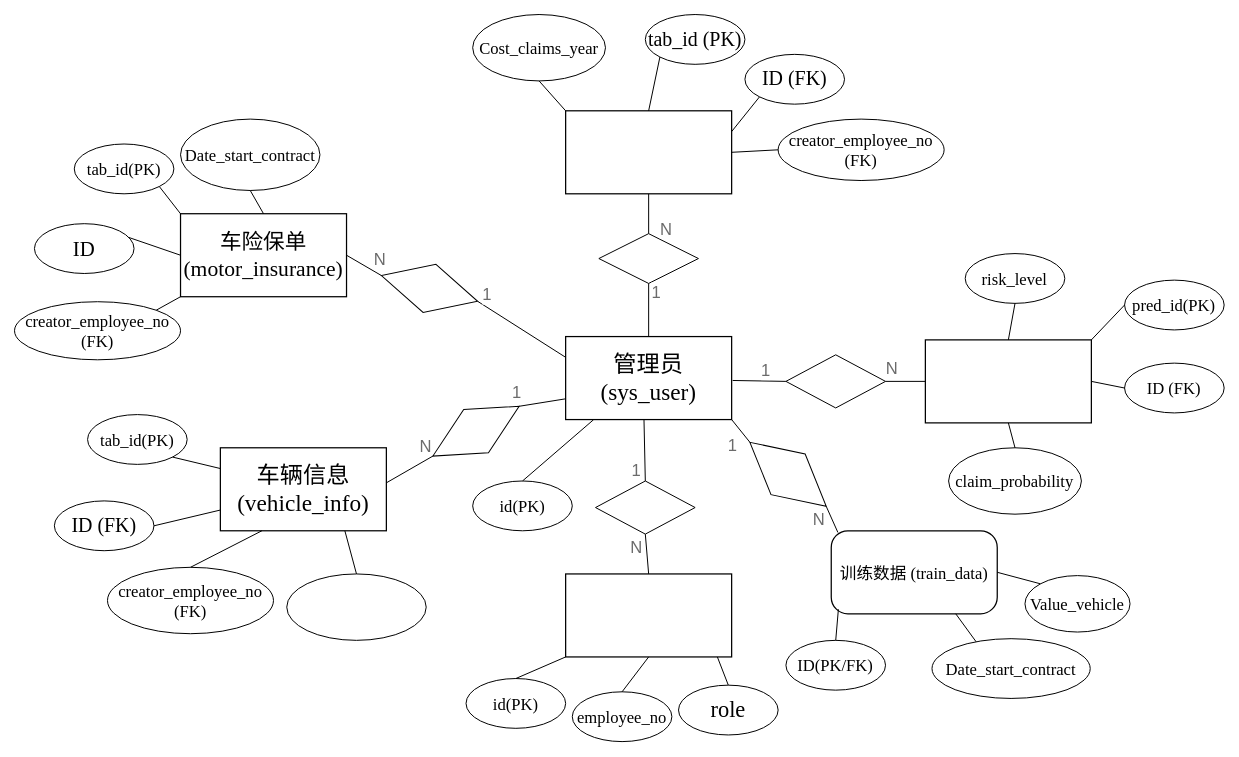
The diagram is 1239 pixels wide and 757 high, and some of its shapes have lost their labels. Here are the shapes that lost their labels. From the top down, the centre of each, then its label:
At point (648, 152): "理赔记录 (claim_record)".
At point (648, 258): "维护理赔".
At point (429, 288): "管理保单".
At point (835, 381): "查询预测".
At point (1008, 381): "预测记录 (insur_pred)".
At point (475, 431): "维护车辆".
At point (788, 474): "构建".
At point (645, 507): "管理".
At point (356, 606): "Year_matriculation".
At point (648, 615): "普通用户 (sys_user)".
